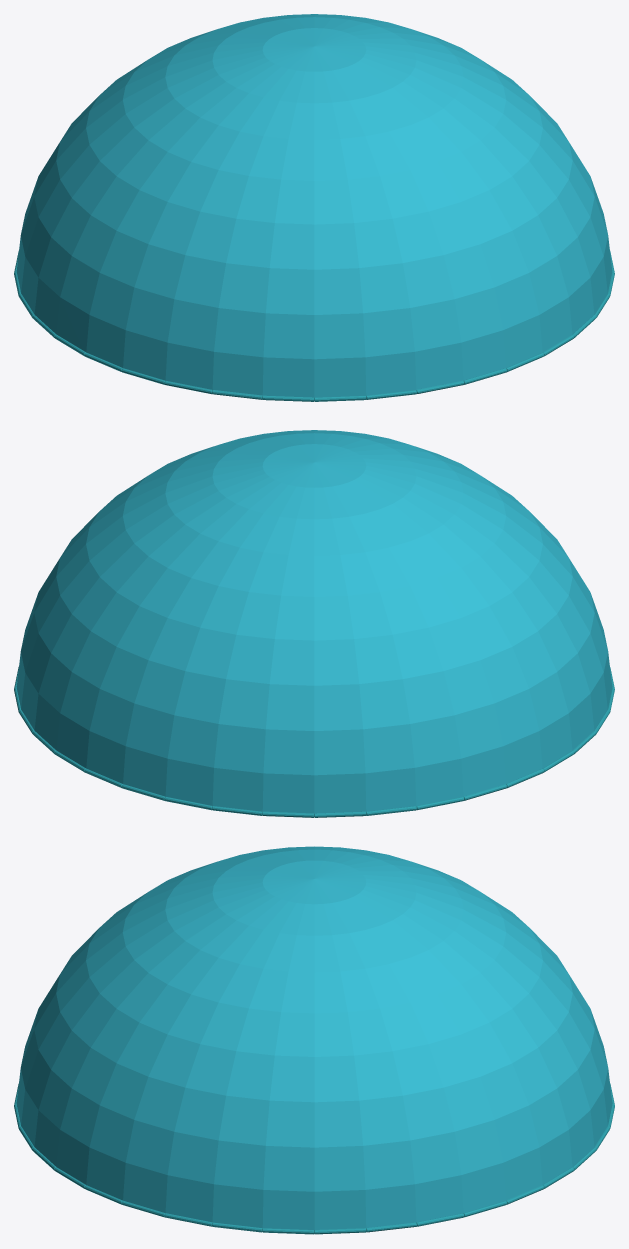
File: domo_lunar.glb
3 renders of one model, top to bottom at view 1: azimuth 30°, elevation 25°; view 2: azimuth 150°, elevation 25°; view 3: azimuth 270°, elevation 25°, orthographic.
Parts seen in each view (by area): view 1: Escudo; view 2: Escudo; view 3: Escudo.
Boxes of the visible parts, box(x1,y1,x2,y2) form: Escudo: box(16, 14, 612, 397); Escudo: box(16, 430, 612, 813); Escudo: box(16, 846, 612, 1229).
Bounding box in the file's own units: 11.69 × 4.92 × 11.69.
